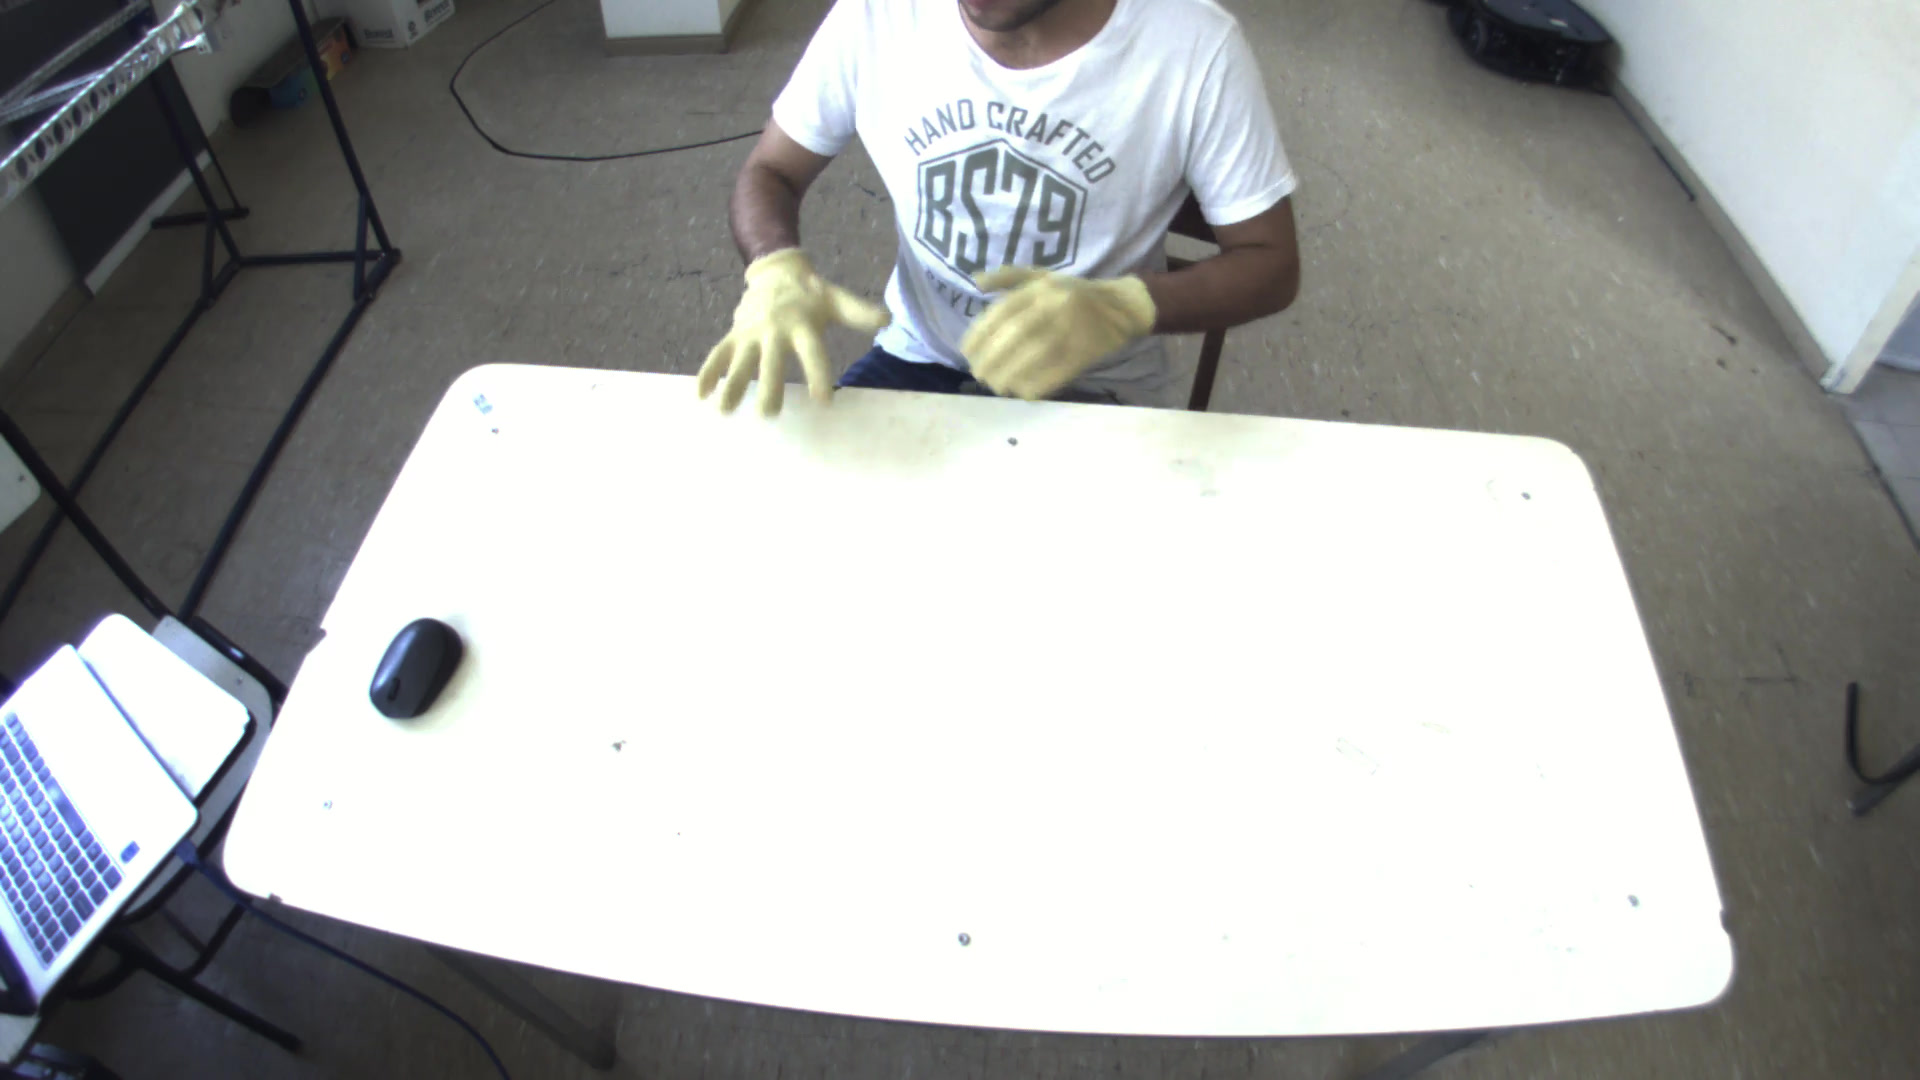hand: (675, 236, 893, 415), (951, 247, 1160, 396)
